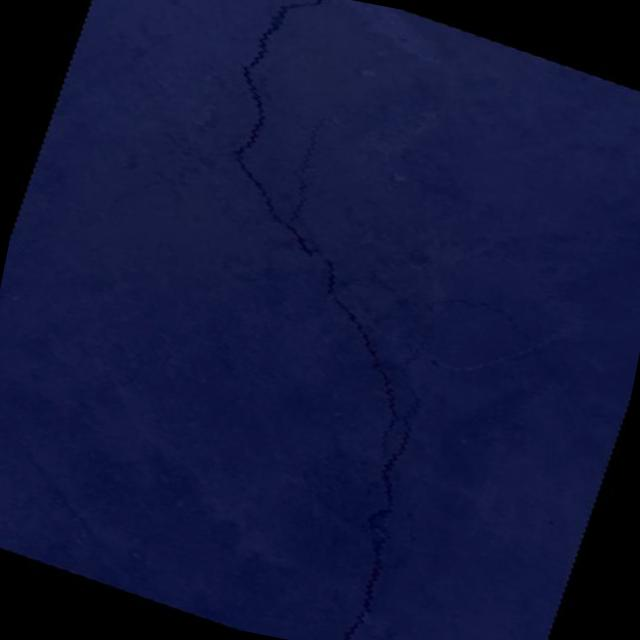crack: (156, 0, 402, 265), (306, 333, 468, 640), (264, 253, 444, 464), (430, 286, 543, 341), (388, 501, 427, 576), (571, 405, 616, 425), (544, 370, 576, 396), (334, 101, 345, 116)
